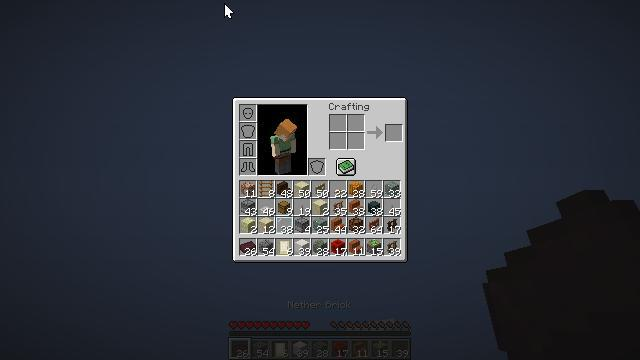cursor: (3, 224, 19, 234)
